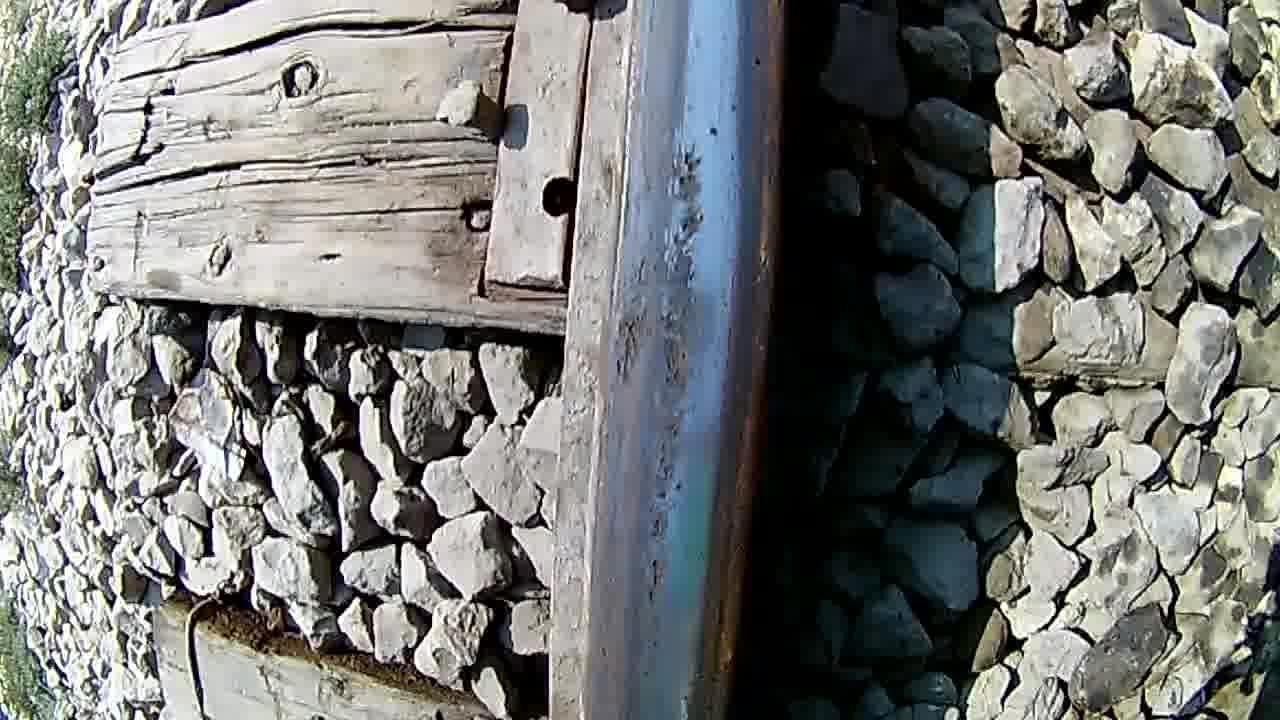crack: (588, 0, 782, 720)
